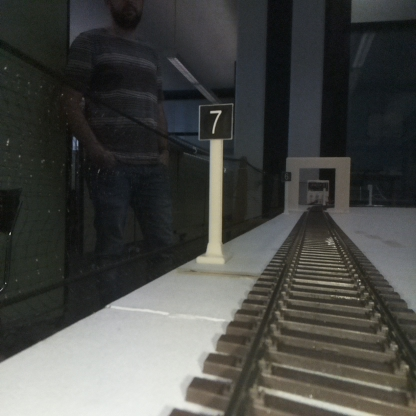black-info-7: (199, 104, 232, 262)
